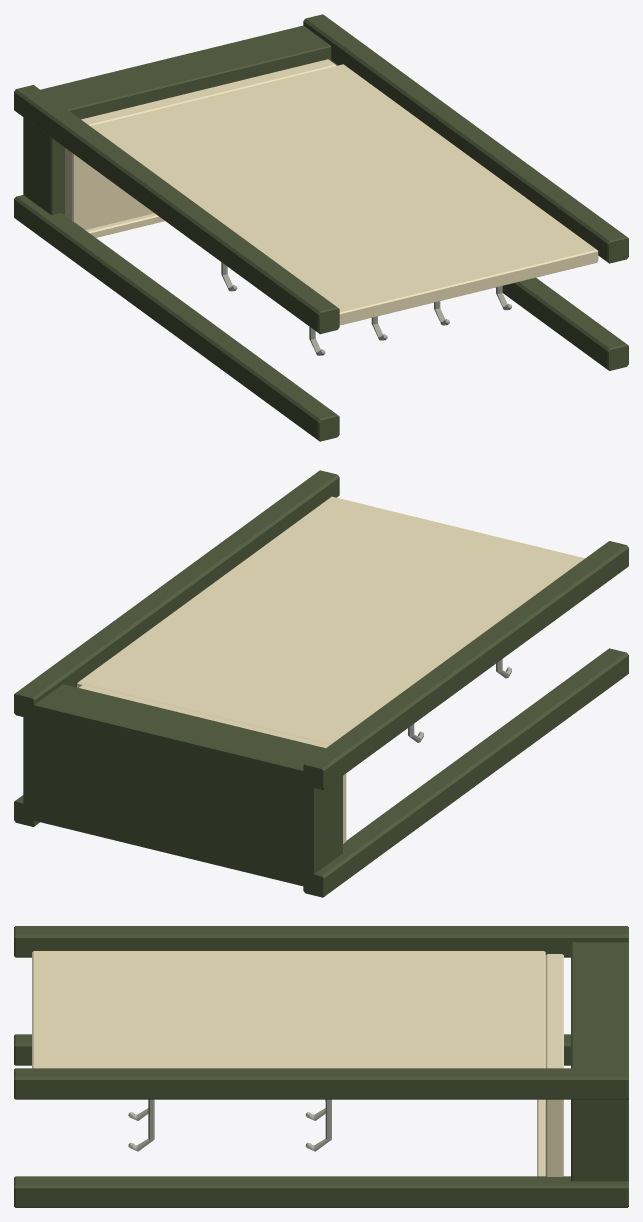
Rendered from fixture_09_pegboard_display.glb.
3 renders of one model, top to bottom at view 1: azimuth 30°, elevation 25°; view 2: azimuth 150°, elevation 25°; view 3: azimuth 270°, elevation 25°, orthographic.
Parts seen in each view (by area): view 1: fixture_09_pegboard_display; view 2: fixture_09_pegboard_display; view 3: fixture_09_pegboard_display.
Boxes of the visible parts, left/top/right/bottom form: fixture_09_pegboard_display: left=14, top=14, right=628, bottom=441; fixture_09_pegboard_display: left=14, top=470, right=628, bottom=897; fixture_09_pegboard_display: left=14, top=926, right=628, bottom=1207.
Size of what is drawn, in the model's own units: 1 by 0.4 by 1.7.
